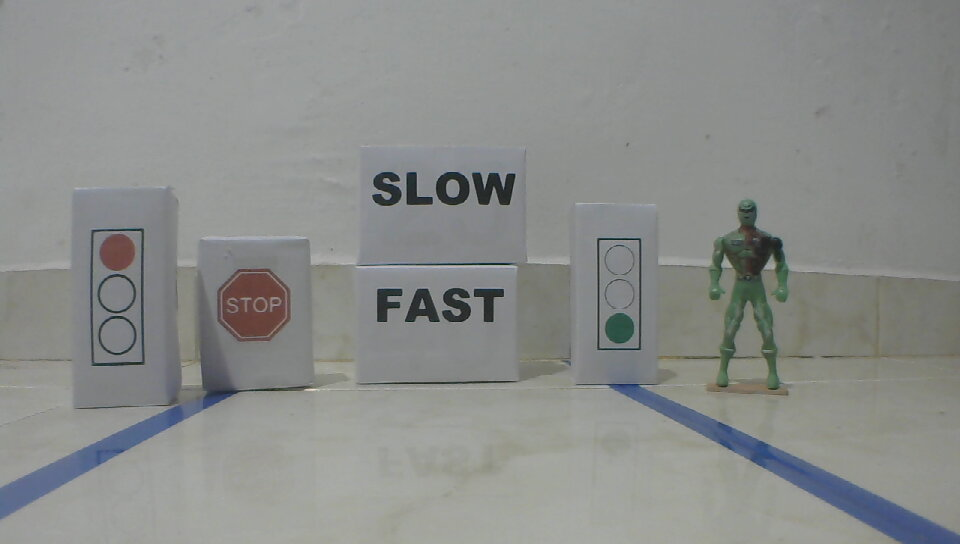Fast: (374, 284, 508, 326)
Green Traffic Light: (596, 236, 642, 353)
Person: (708, 198, 792, 394)
Red Traffic Light: (88, 227, 149, 370)
Slow: (372, 167, 519, 214)
Stop Sign: (216, 268, 294, 344)
